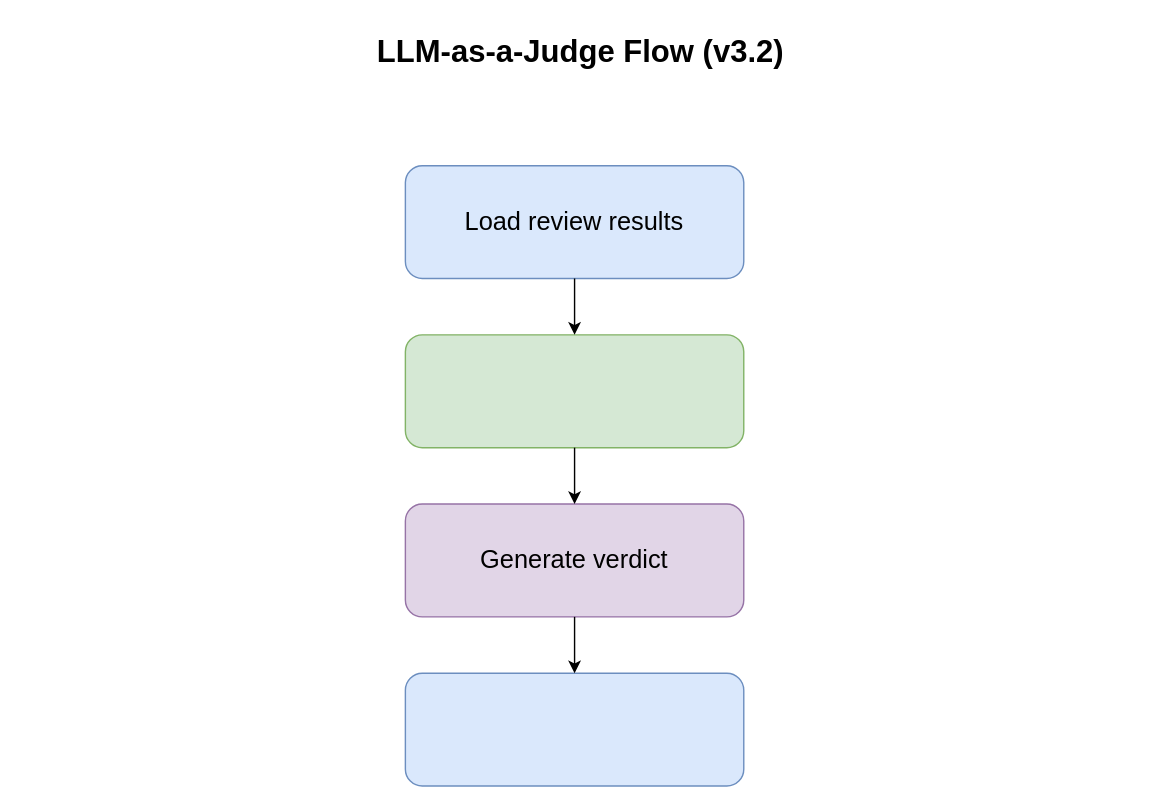
Some shapes in this 1158 by 811 pixel diagram are drawn without their labels. Here are the shapes that lost their labels. From the top down, the centre of each, then its label:
At (x=574, y=390): "Build judge prompt".
At (x=574, y=729): "Submit review event to PR".
